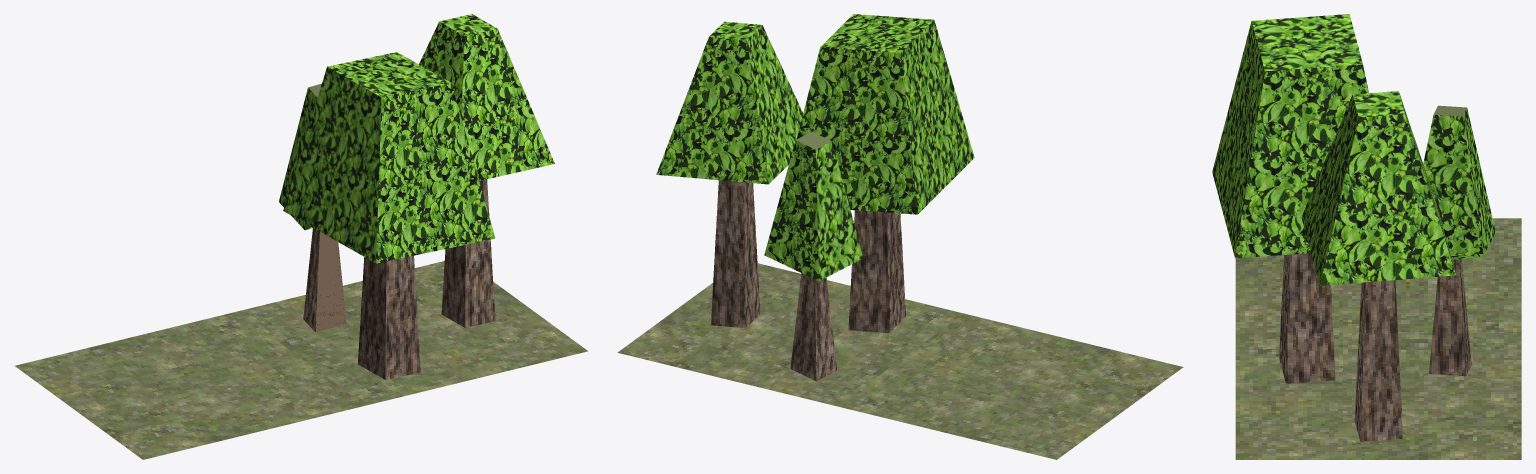
Rendered from basic flat map field and forest.glb.
3 renders of one model, left to right at view 1: azimuth 30°, elevation 25°; view 2: azimuth 150°, elevation 25°; view 3: azimuth 270°, elevation 25°, orthographic. The views are drawn at different scales.
Visible parts, largest first — view 1: house.001, house; view 2: house.001, house; view 3: house.001, house.
Part boxes in pixels (x1,y1,x2,y2): house.001: (237,14,587,405); house: (15,311,365,459); house.001: (617,14,974,406); house: (837,313,1183,459); house.001: (1212,14,1521,459); house: (1235,218,1521,338).
Size of the model in its own units: 4.04 by 2.58 by 2.17.
3 materials, 3 textured.
